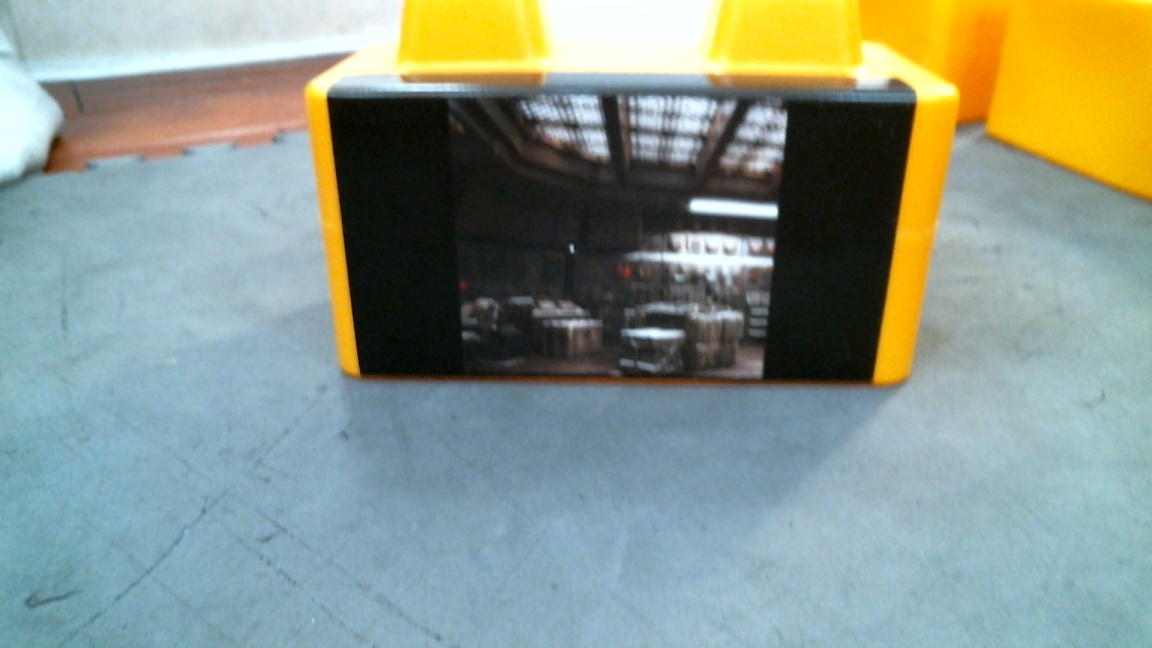skystone: (302, 1, 925, 388)
